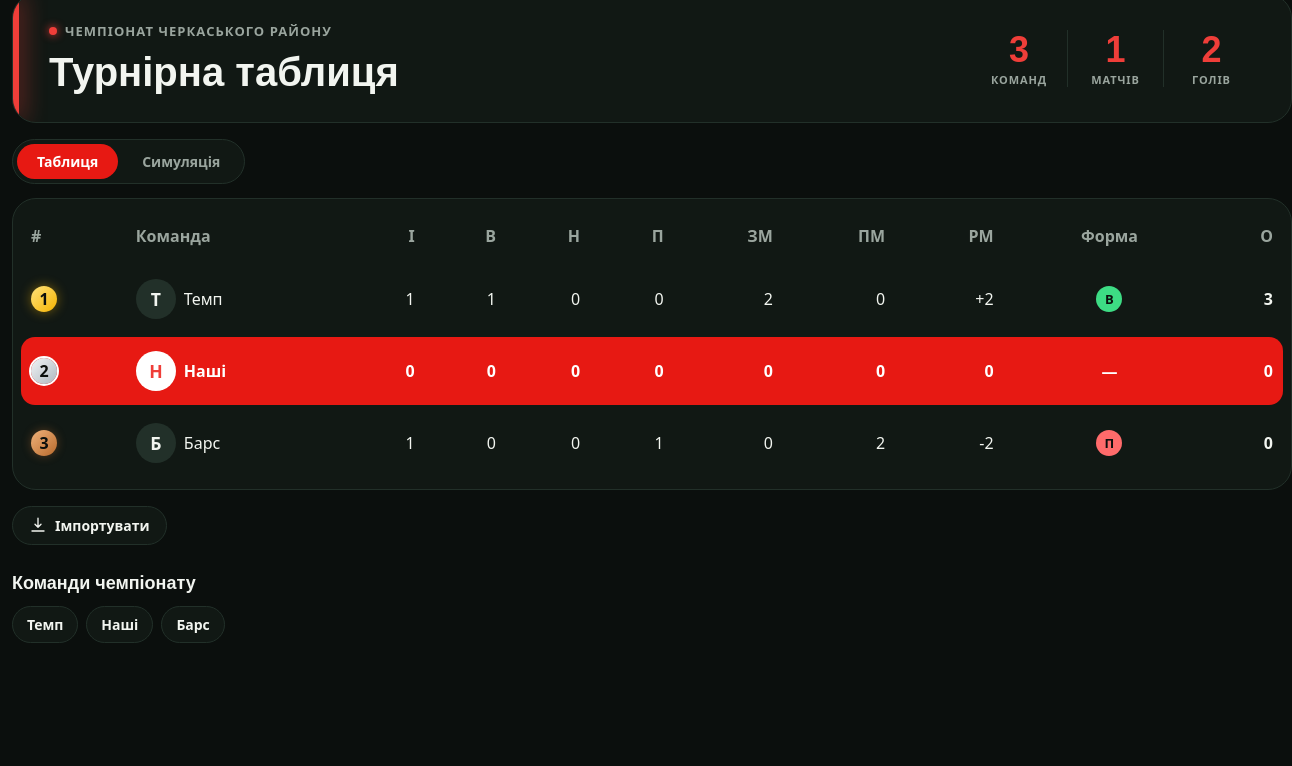
it: StandingsPage simulation › counts a 0:0 draw as a result
The width and height of the screenshot is (1292, 766).
Click the button "Симуляція" at (181, 161), box top-left (122, 144), bottom-right (240, 179)
(page scrolled)
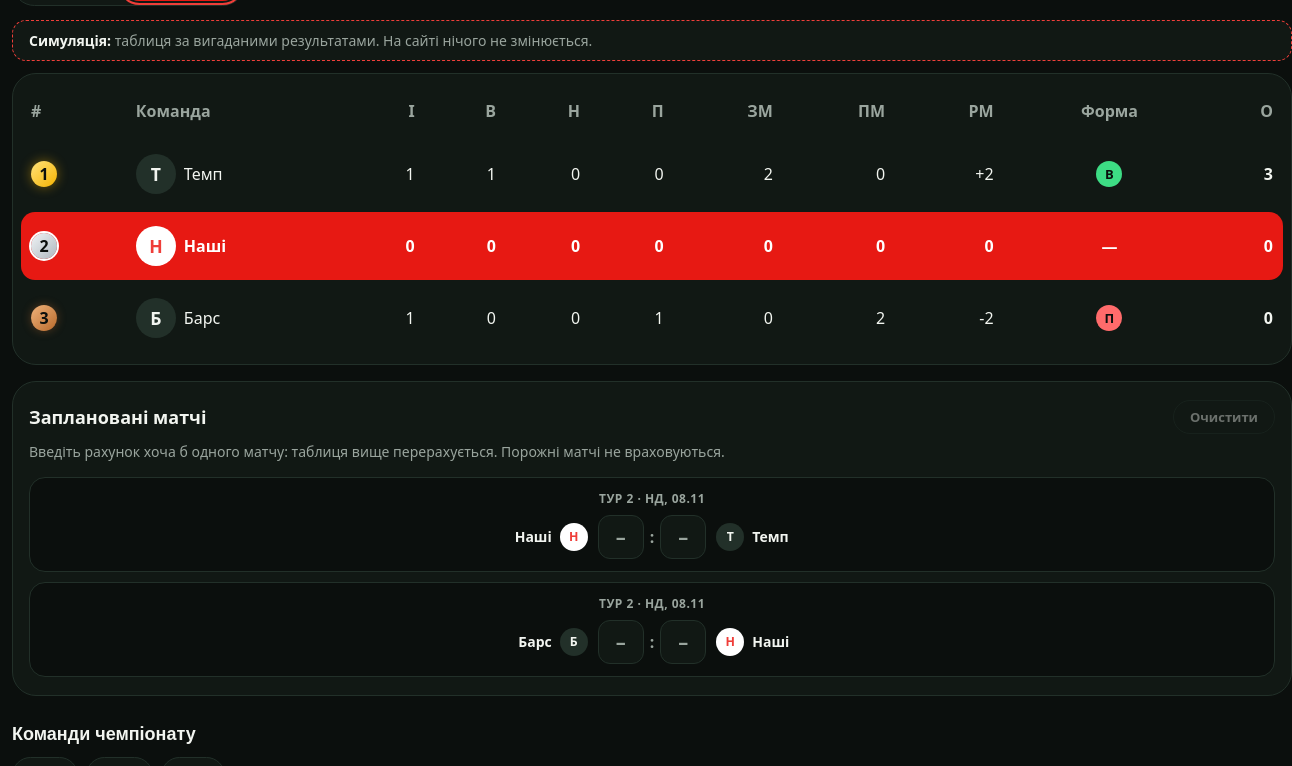
Type "1" into the 3rd field with placeholder "–" at (621, 642), box top-left (598, 620), bottom-right (644, 664)
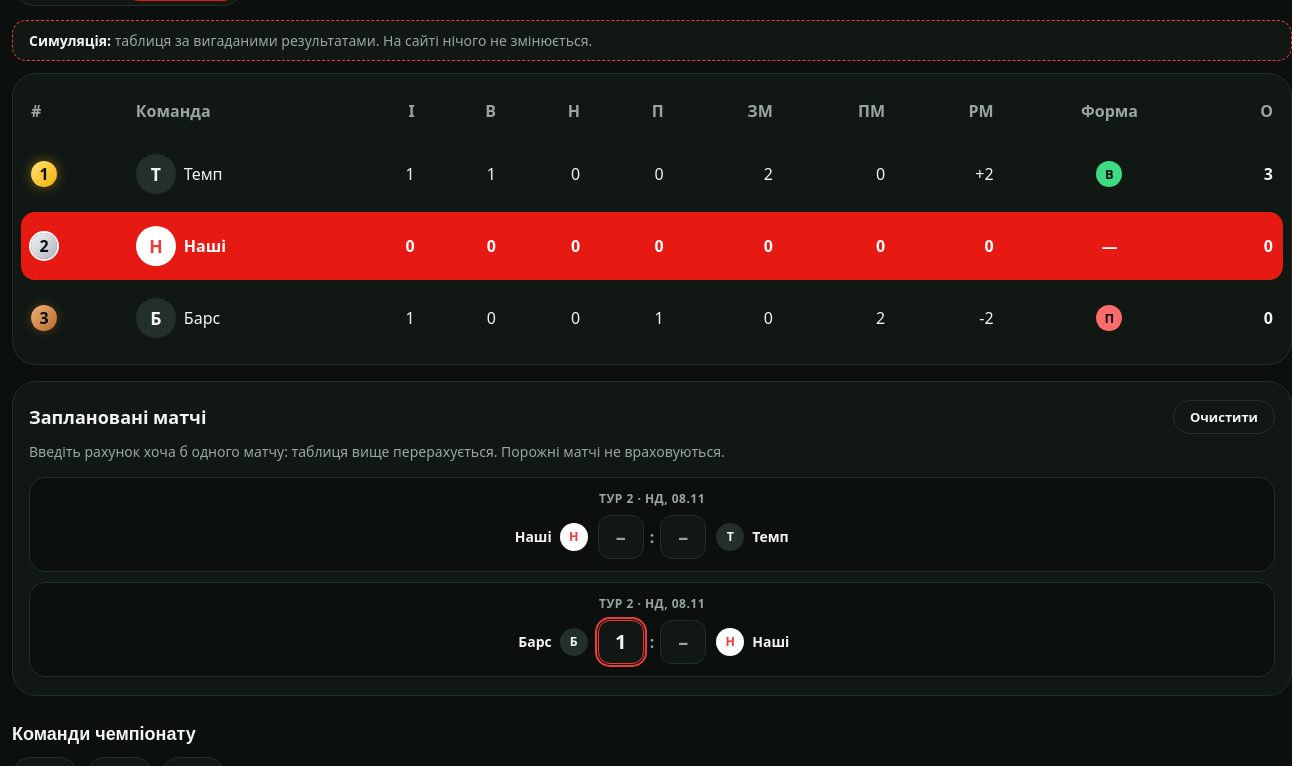
Type "1" into the 3rd field with placeholder "–" at (683, 642), box top-left (660, 620), bottom-right (706, 664)
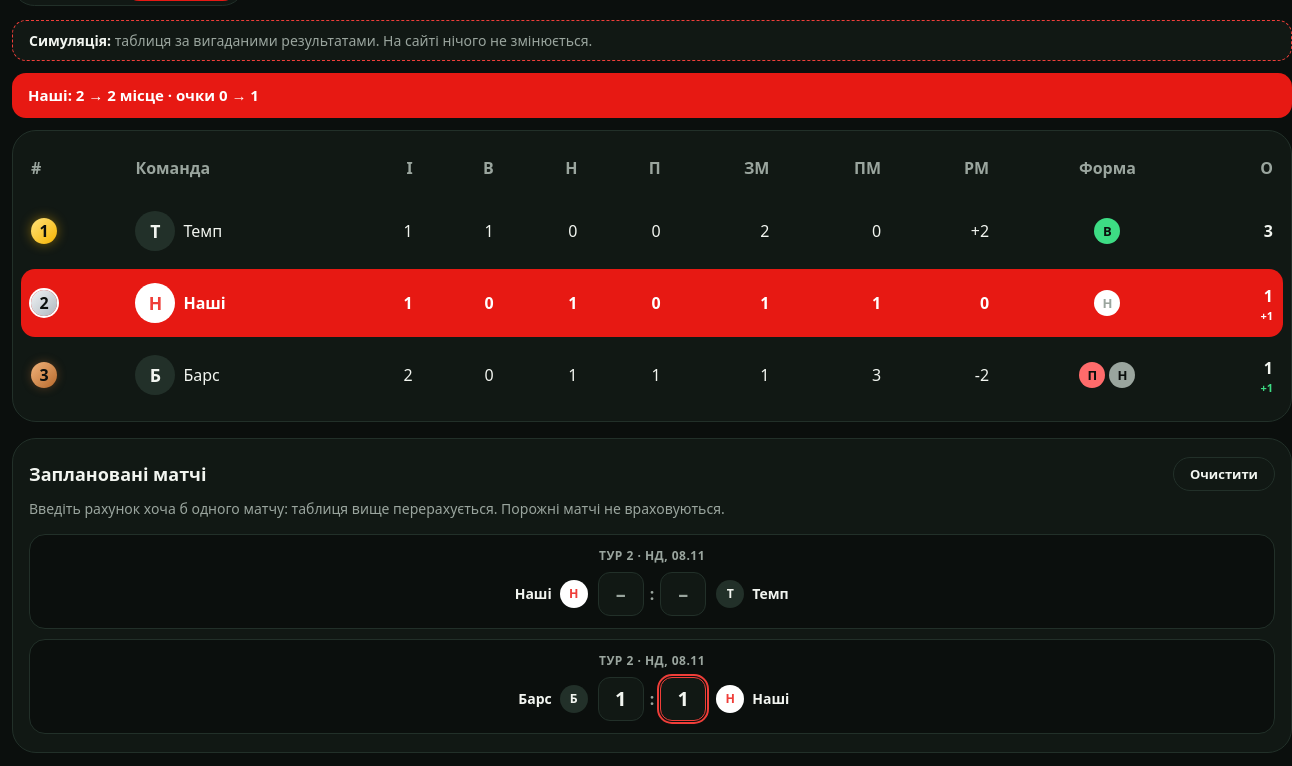
Result: the message shows "очки 0 → 1" at top-left (12, 74), bottom-right (1291, 118)
